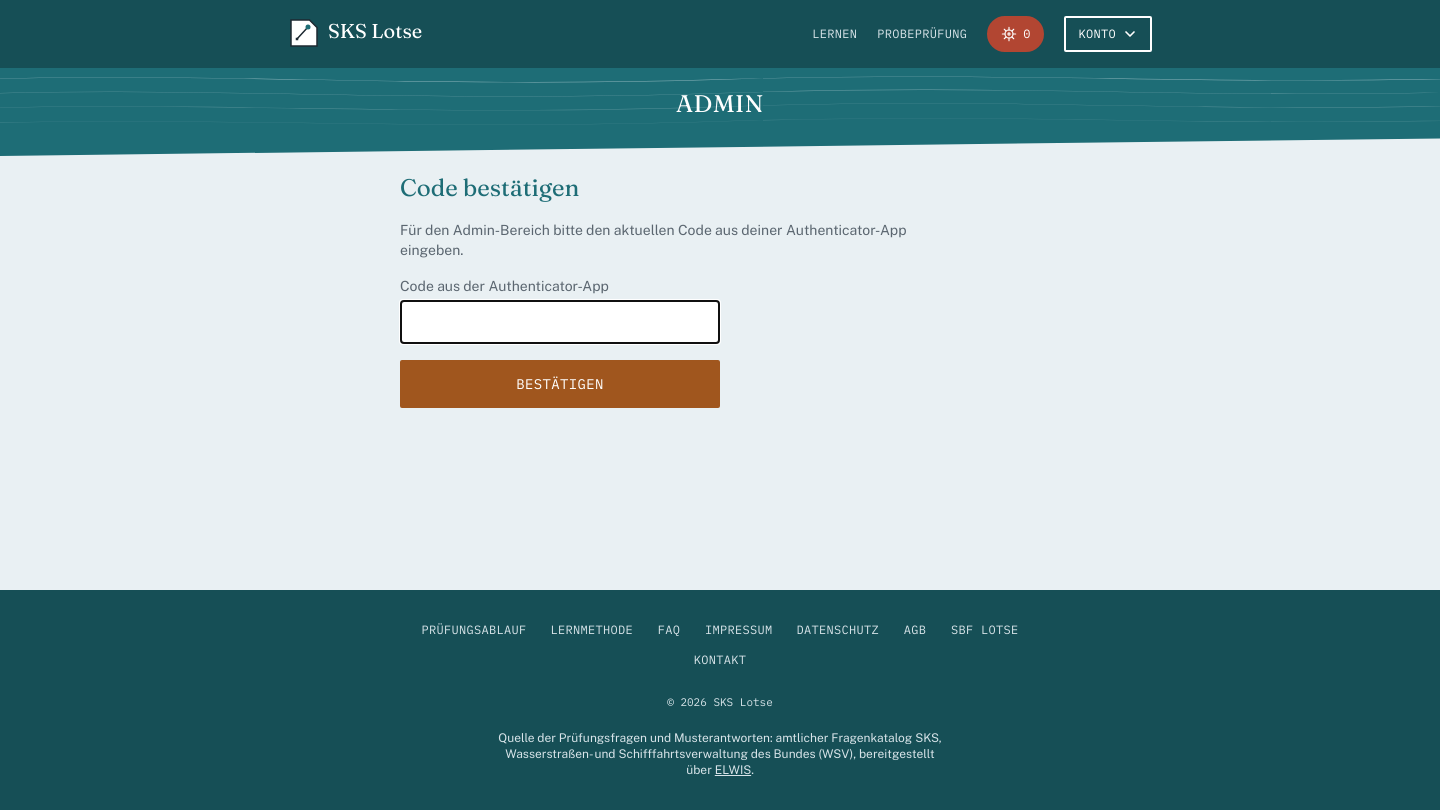
Scenario: AdminLayout › shows the pages again once the code was accepted
The image size is (1440, 810).
Type "123456" into the field labelled "Code aus der Authenticator-App" at (560, 322), box [400, 300, 720, 344]
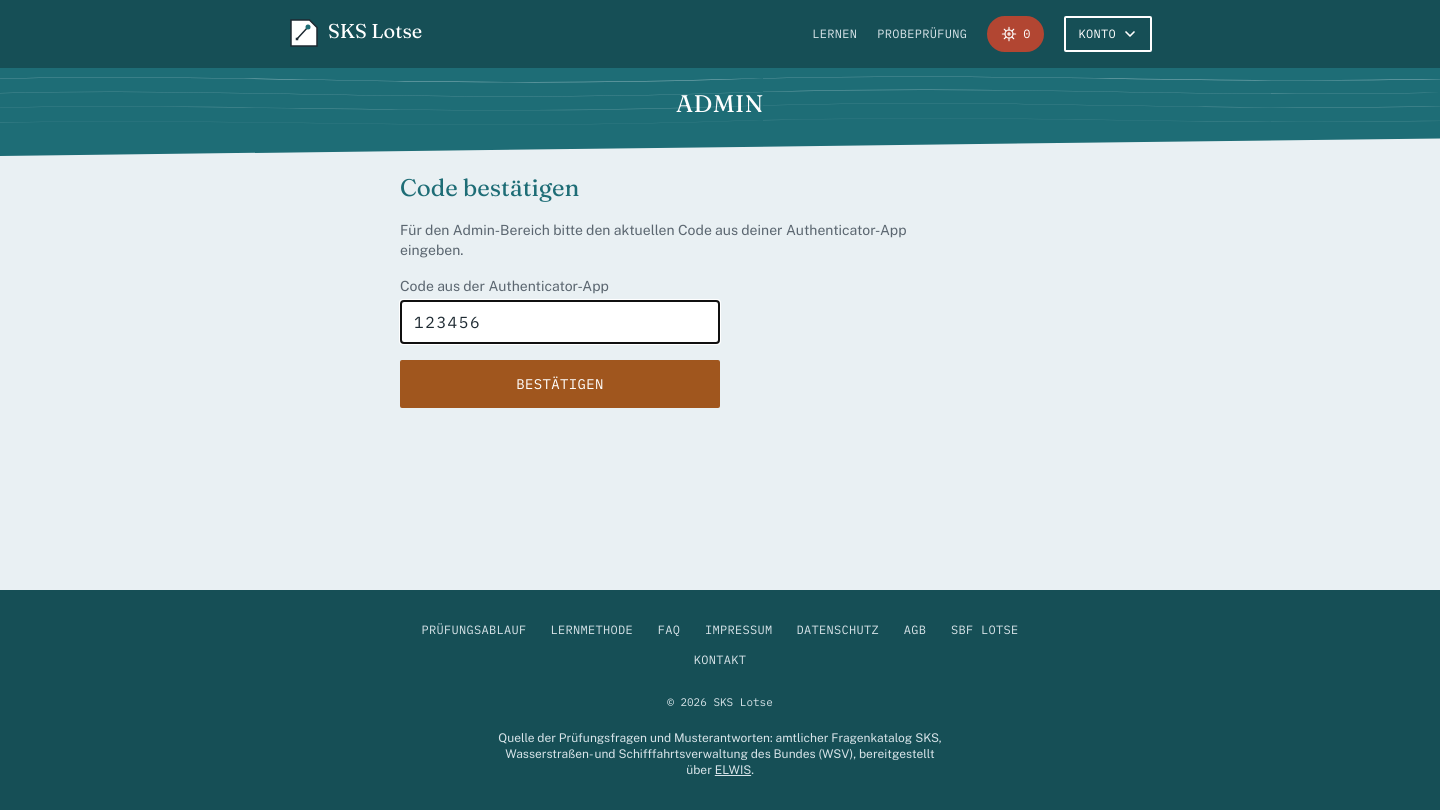
Click the button "Bestätigen" at (560, 384), box [400, 360, 720, 408]
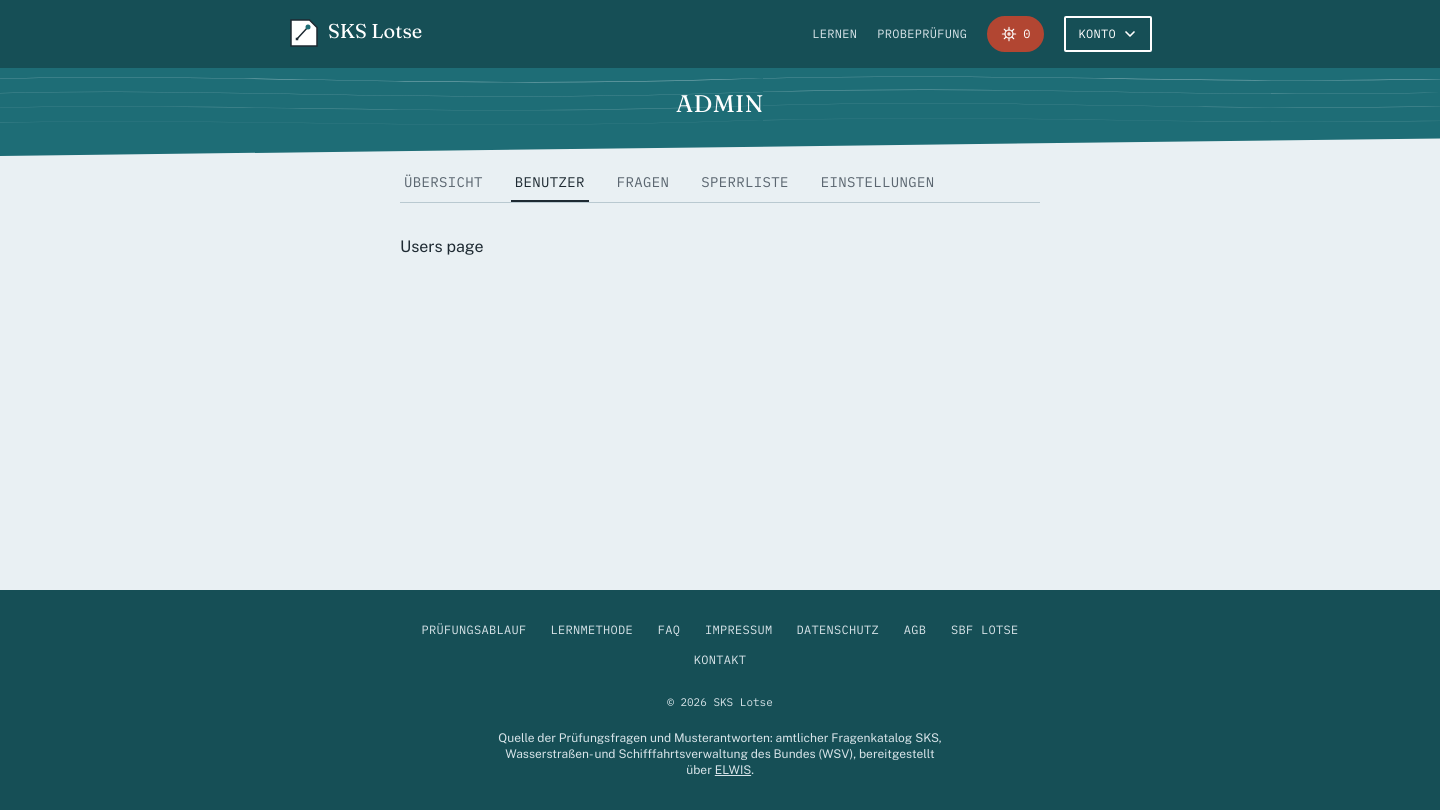
expect the text "Users page" is shown: met, box [400, 237, 484, 256]
